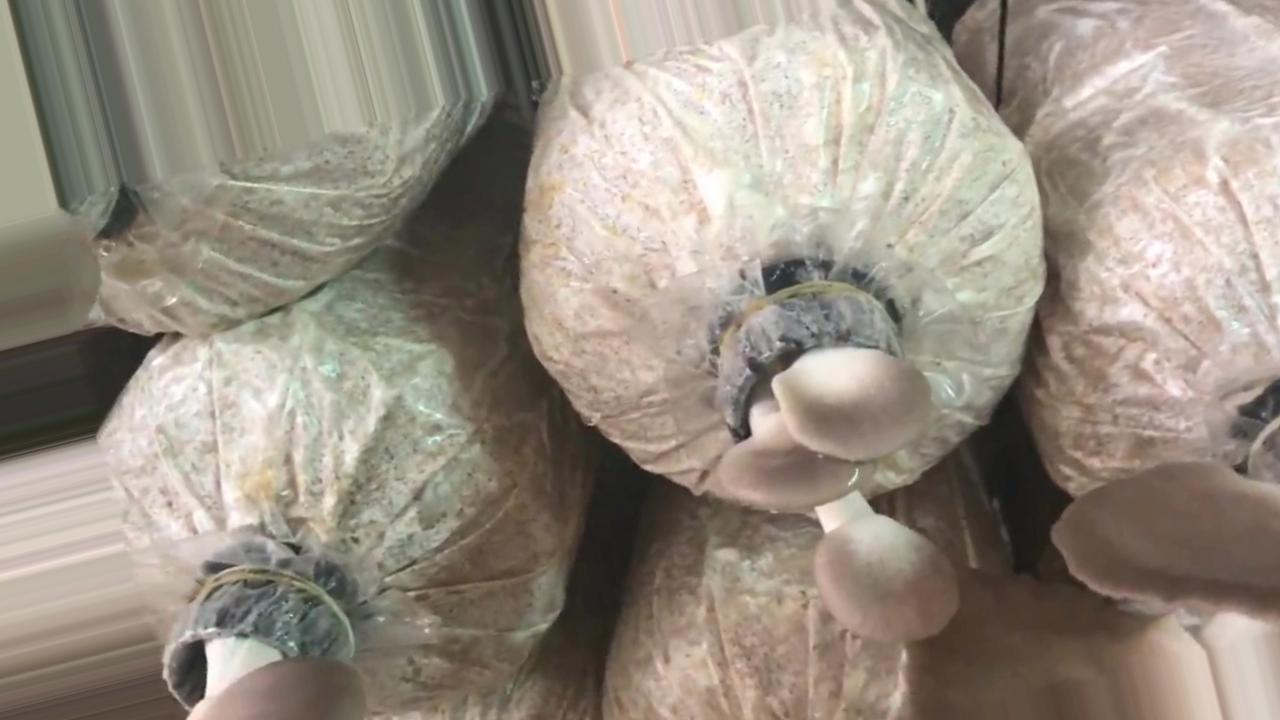nam: (910, 412, 1279, 716), (716, 288, 956, 643), (157, 562, 354, 720)
